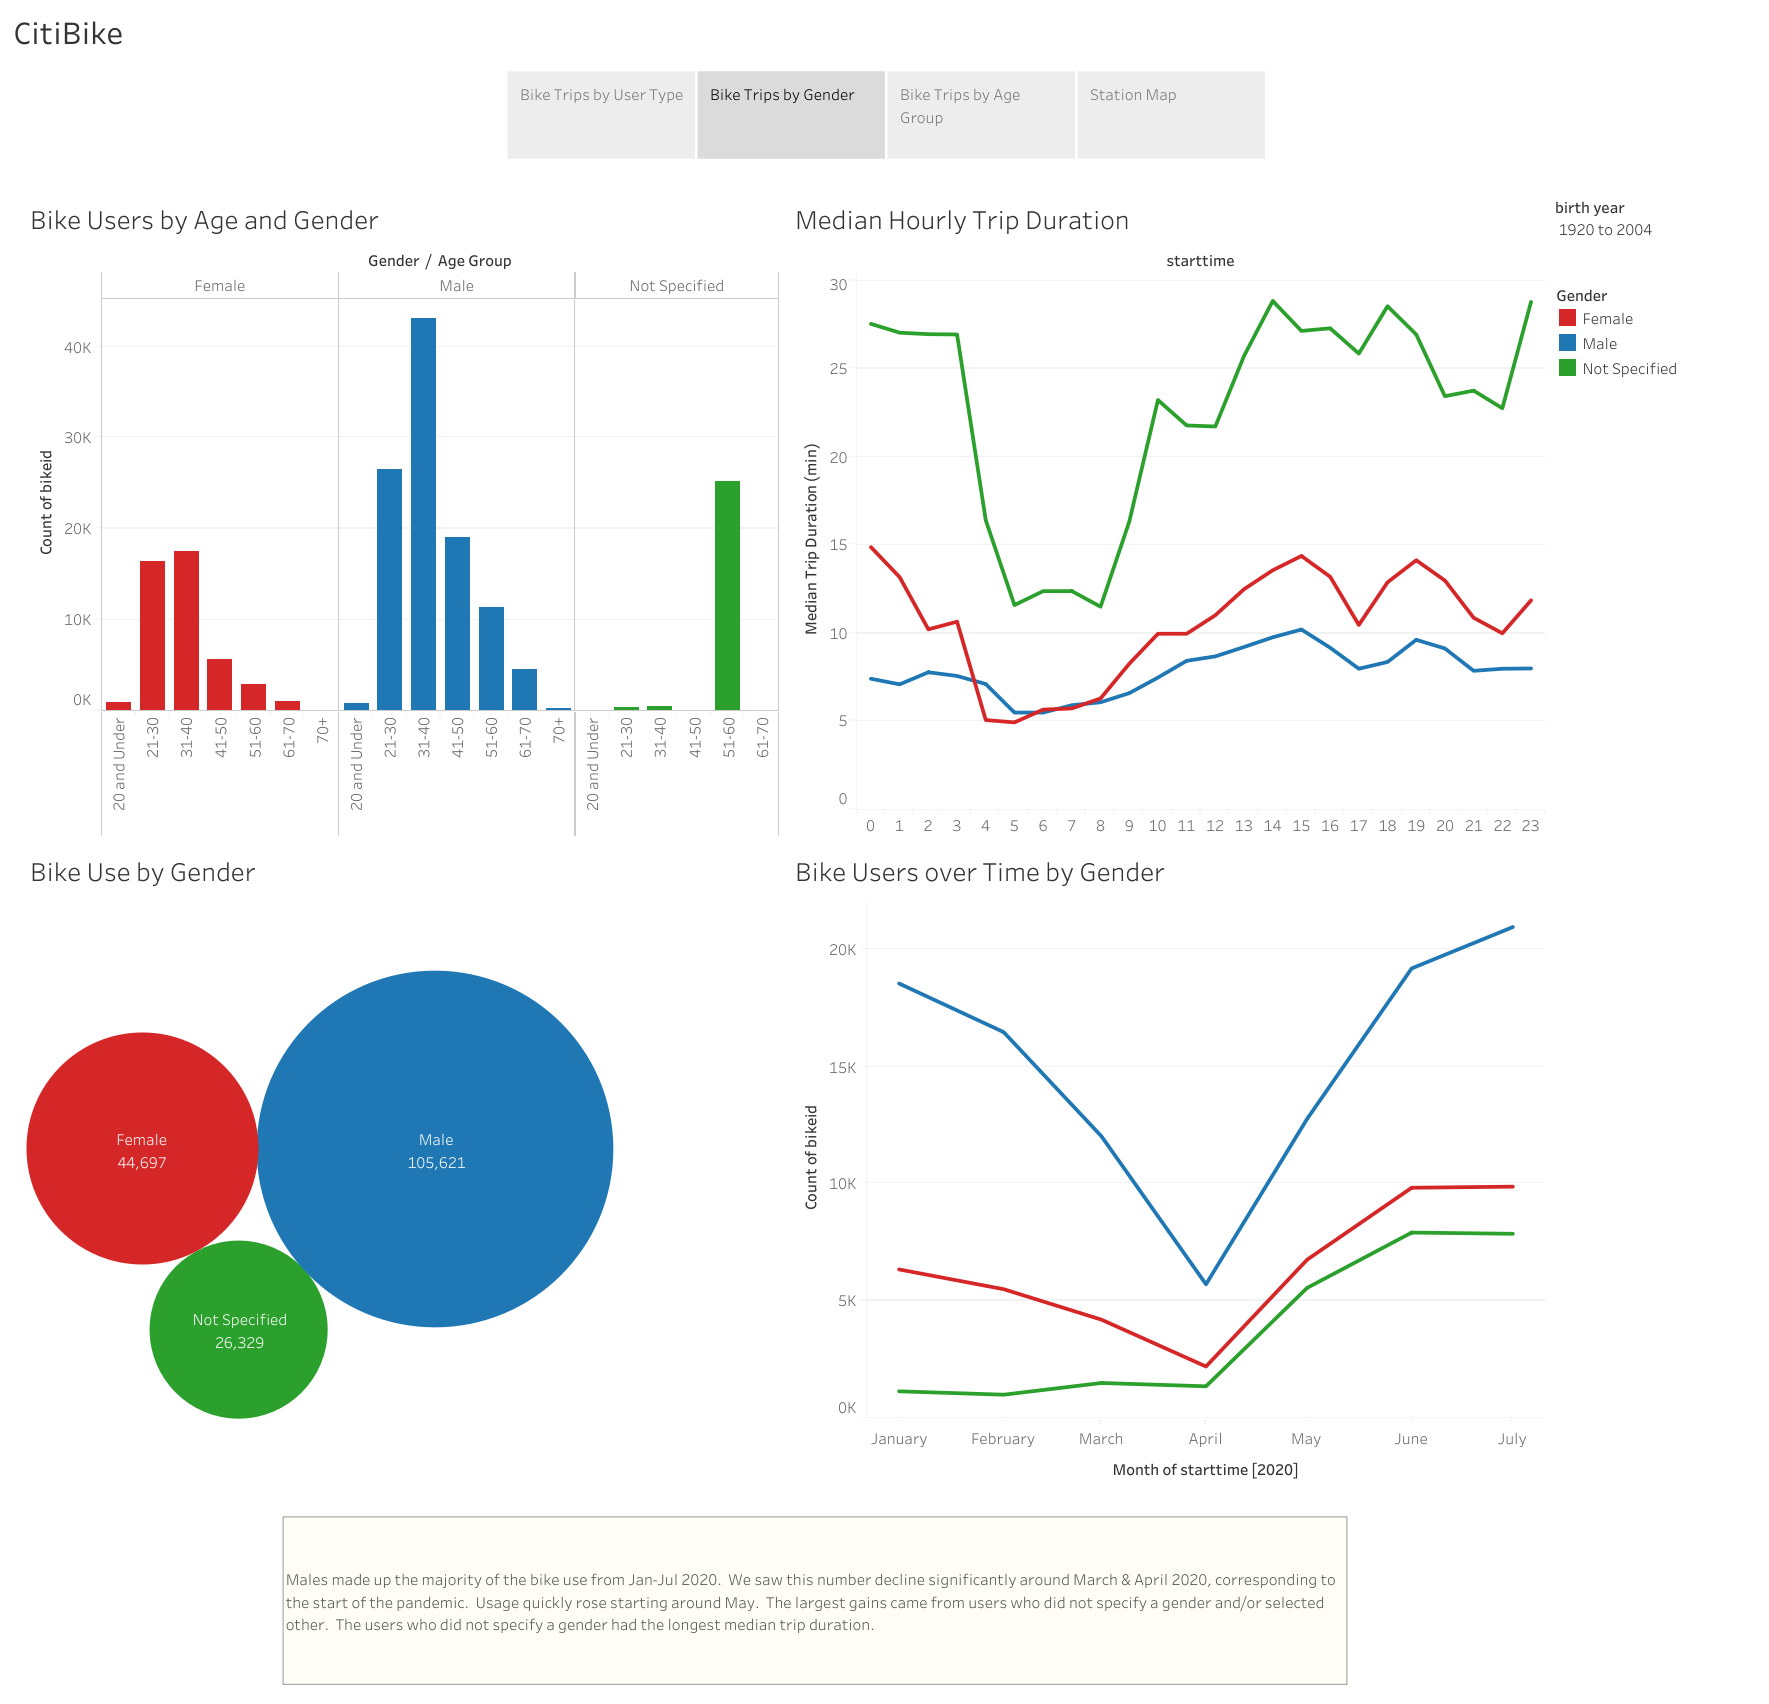

This screenshot's page, from the dashboard's own definition file:
{"tool":"tableau","page":{"name":"GenderDashboard","canvas":[1000,1000],"units":"permille","ordinal":1},"visuals":[{"type":"worksheet","box":[0,0,1000,1000]},{"type":"worksheet","param":"horz","box":[5.3,9.3,989.3,981.4]},{"type":"worksheet","box":[5.3,9.3,882.6,981.4]},{"type":"worksheet","title":"Bike Users by Age and Gender","mark":"Bar","rows":["bikeid"],"cols":["Calculation_424745753977401345"],"box":[5.3,9.3,441.3,490.7]},{"type":"worksheet","title":"Median Hourly Trip Duration","mark":"Automatic","rows":["Calculation_424745753983160322"],"cols":["starttime"],"box":[446.6,9.3,441.3,490.7]},{"type":"worksheet","param":"vert","box":[887.9,9.3,106.7,981.4]},{"type":"worksheet","title":"Bike Users by Age and Gender","mark":"Bar","rows":["bikeid"],"cols":["Calculation_424745753977401345"],"param":"[federated.0xu3c9u0codd0c19rlvsa1oefhhu].[none:birth year:qk]","box":[887.9,9.3,106.7,84.8]},{"type":"worksheet","title":"Bike Users by Age and Gender","mark":"Bar","rows":["bikeid"],"cols":["Calculation_424745753977401345"],"param":"[federated.0xu3c9u0codd0c19rlvsa1oefhhu].[none:Calculation_424745753977401345:nk","box":[887.9,94.1,106.7,108]},{"type":"worksheet","title":"Bike Use by Gender","mark":"Circle","box":[5.3,500,441.3,490.7]},{"type":"worksheet","title":"Bike Users over Time by Gender","mark":"Automatic","rows":["bikeid"],"cols":["starttime"],"box":[446.6,500,441.3,490.7]}]}

Visuals, with their boxes on the dashboard's canvas, which has no fixed pixel size, in thousandths of its width and height (x1, y1, x2, y2). These are canvas units, not pixel positions in the 1769x1704 screenshot, which may show the page scaled, cropped or inside an application window:
worksheet: left=0, top=0, right=1000, bottom=1000
worksheet: left=5, top=9, right=995, bottom=991
worksheet: left=5, top=9, right=888, bottom=991
"Bike Users by Age and Gender" worksheet (Bar marks): left=5, top=9, right=447, bottom=500
"Median Hourly Trip Duration" worksheet: left=447, top=9, right=888, bottom=500
worksheet: left=888, top=9, right=995, bottom=991
"Bike Users by Age and Gender" worksheet (Bar marks): left=888, top=9, right=995, bottom=94
"Bike Users by Age and Gender" worksheet (Bar marks): left=888, top=94, right=995, bottom=202
"Bike Use by Gender" worksheet (Circle marks): left=5, top=500, right=447, bottom=991
"Bike Users over Time by Gender" worksheet: left=447, top=500, right=888, bottom=991
